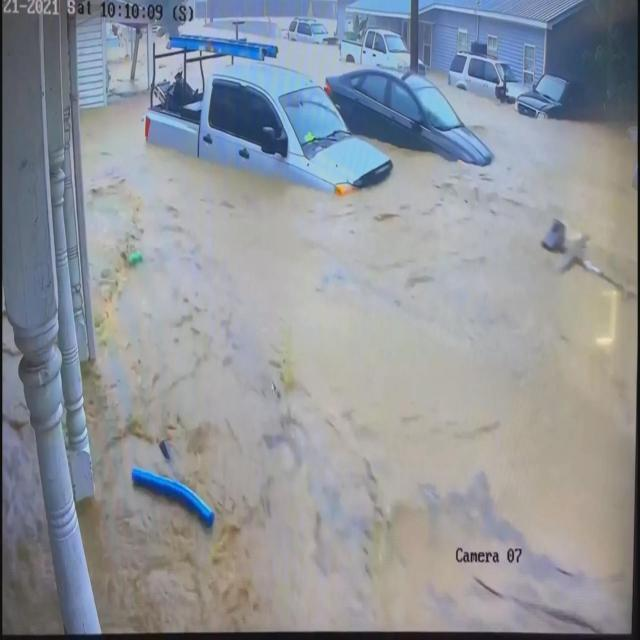water: (75, 55, 632, 631)
